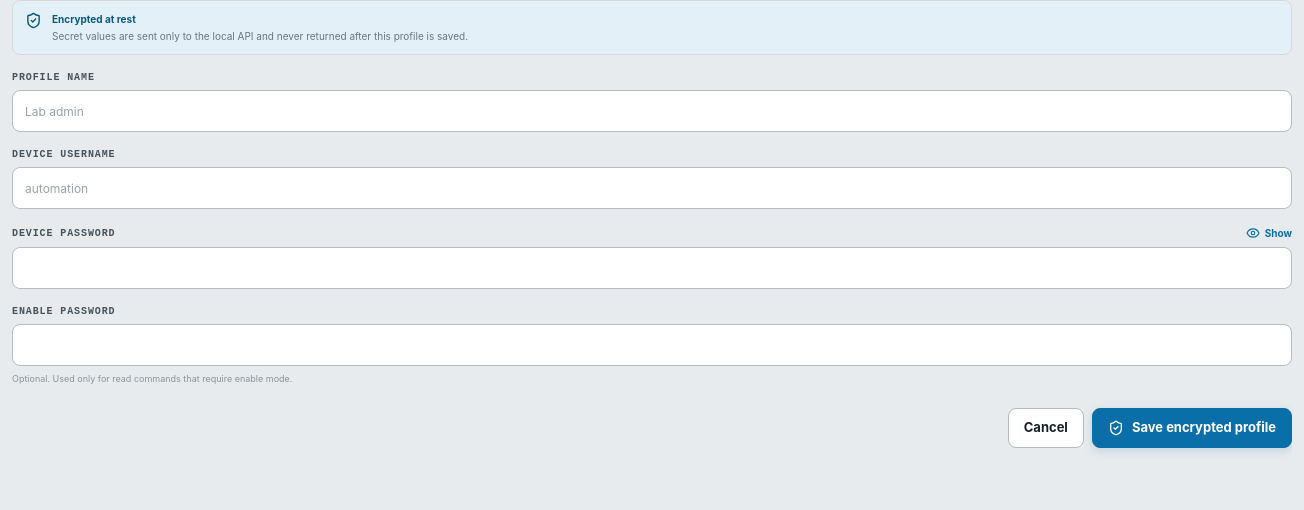
Test: CredentialForm › requires a username and password when creating a new profile
Type "New profile" into the field labelled "Profile name" at (652, 111), box [12,90,1292,132]
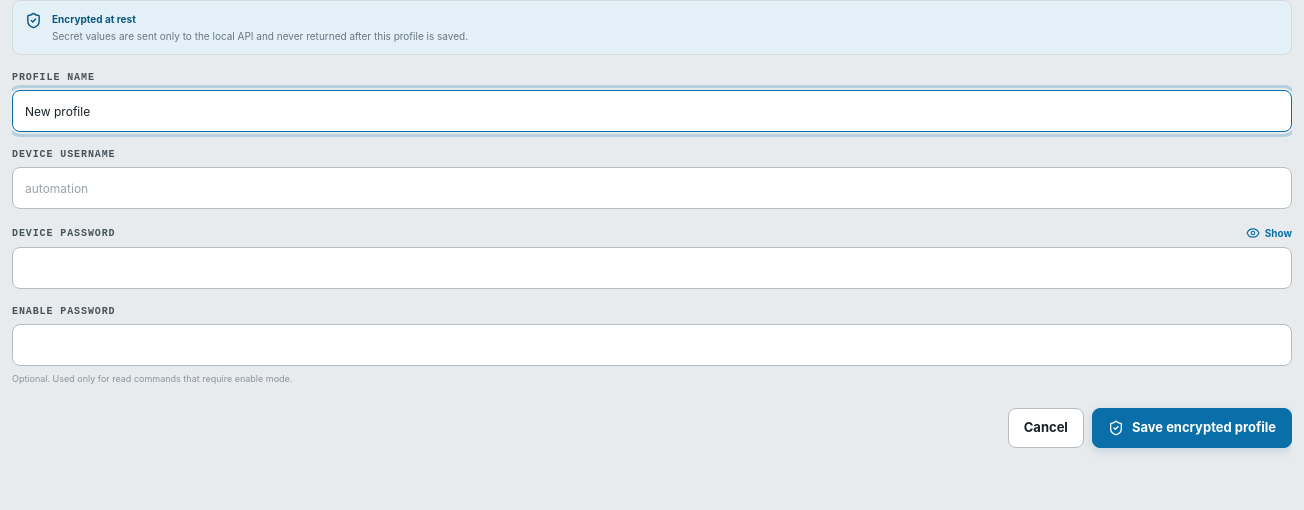
Click the button "Save encrypted profile" at (1192, 428), box [1092,408,1292,448]
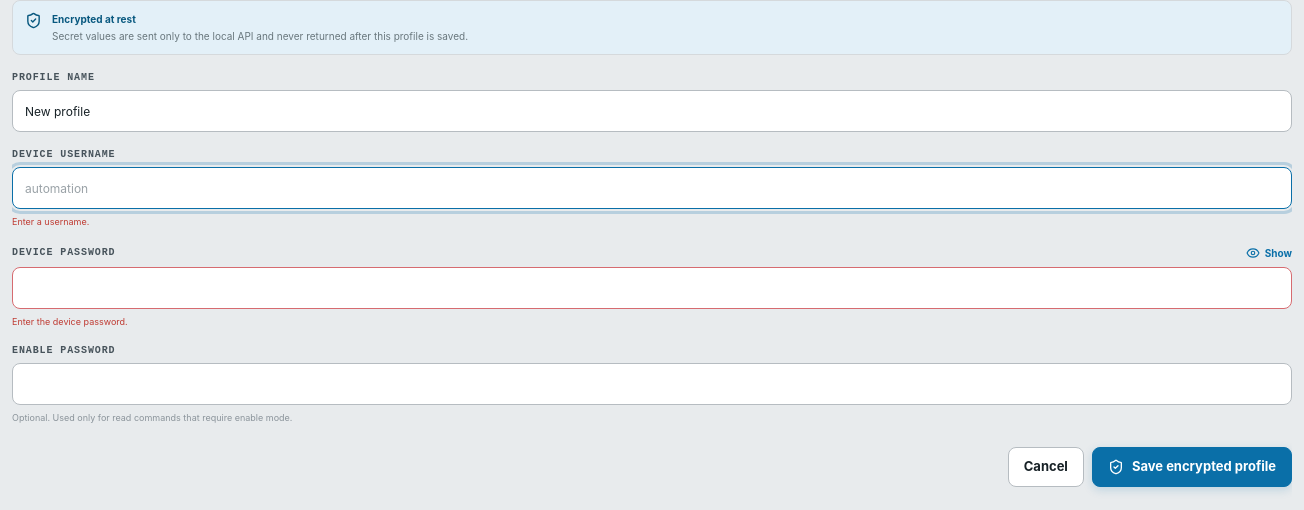
Now the text "Enter a username." is shown, box [12,216,89,227]
Now the text "Enter the device password." is shown, box [12,316,128,327]
